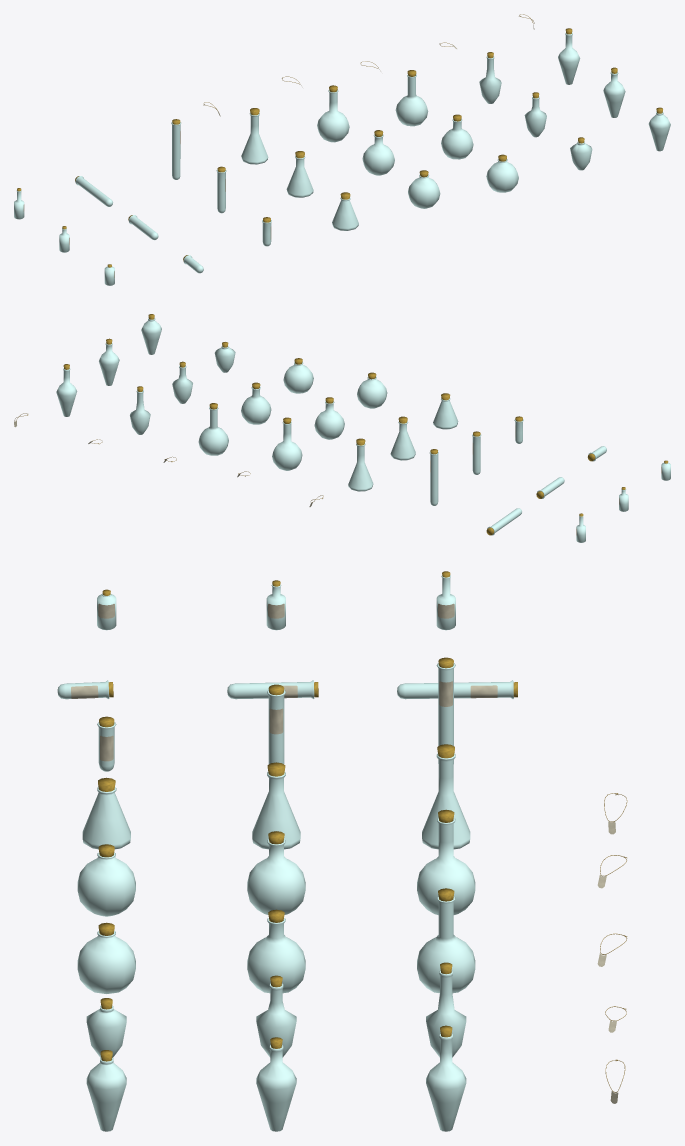
The model's file is complete_pack.glb.
3 renders of one model, top to bottom at view 1: azimuth 30°, elevation 25°; view 2: azimuth 150°, elevation 25°; view 3: azimuth 270°, elevation 25°, orthographic. The views are drawn at different scales.
Visible parts, largest first — view 1: round_bottom-long_neck, flat_bottom-long_neck, round_bottom-short_neck, flat_bottom-short_neck, flat_bottom-no_neck, round_bottom-no_neck, conical-long_neck, conical-short_neck, droplet-long_neck, droplet-short_neck, heart-long_neck, conical-no_neck (+4 smaller); view 2: round_bottom-long_neck, flat_bottom-long_neck, round_bottom-short_neck, flat_bottom-short_neck, round_bottom-no_neck, flat_bottom-no_neck, conical-long_neck, conical-short_neck, droplet-long_neck, droplet-short_neck, conical-no_neck, heart-long_neck (+4 smaller); view 3: flat_bottom-long_neck, round_bottom-long_neck, round_bottom-short_neck, round_bottom-no_neck, flat_bottom-no_neck, flat_bottom-short_neck, droplet-long_neck, droplet-short_neck, conical-long_neck, conical-short_neck, conical-no_neck, droplet-no_neck (+7 smaller).
Boxes of the visible parts, x1,y1,x2,y2 form: round_bottom-long_neck: (317,90,349,142); flat_bottom-long_neck: (395,74,428,126); round_bottom-short_neck: (362,134,394,175); flat_bottom-short_neck: (441,119,473,159); flat_bottom-no_neck: (486,159,518,192); round_bottom-no_neck: (408,175,440,208); conical-long_neck: (241,113,268,164); conical-short_neck: (286,156,313,197); droplet-long_neck: (558,32,580,84); droplet-short_neck: (603,72,625,117); heart-long_neck: (479,56,501,103); conical-no_neck: (332,197,358,230); round_bottom-long_neck: (272,422,302,470); flat_bottom-long_neck: (198,407,228,455); round_bottom-short_neck: (314,401,344,439); flat_bottom-short_neck: (241,387,271,424); round_bottom-no_neck: (357,377,387,408); flat_bottom-no_neck: (283,362,313,393); conical-long_neck: (348,443,373,491); conical-short_neck: (390,421,415,460); droplet-long_neck: (56,368,77,416); droplet-short_neck: (99,343,119,385); conical-no_neck: (433,398,458,429); heart-long_neck: (130,390,150,434); flat_bottom-long_neck: (417,896,475,993); round_bottom-long_neck: (417,818,475,915); round_bottom-short_neck: (247,839,305,914); round_bottom-no_neck: (77,852,135,916); flat_bottom-no_neck: (77,931,135,993); flat_bottom-short_neck: (247,918,305,993); droplet-long_neck: (426,1033,466,1131); droplet-short_neck: (256,1045,296,1131); conical-long_neck: (422,753,470,849); conical-short_neck: (252,772,300,849); conical-no_neck: (82,787,130,849); droplet-no_neck: (86,1058,126,1131).
Bounding box in the file's own units: 2.16 × 0.2138 × 1.01.
4 materials, 3 textured.
